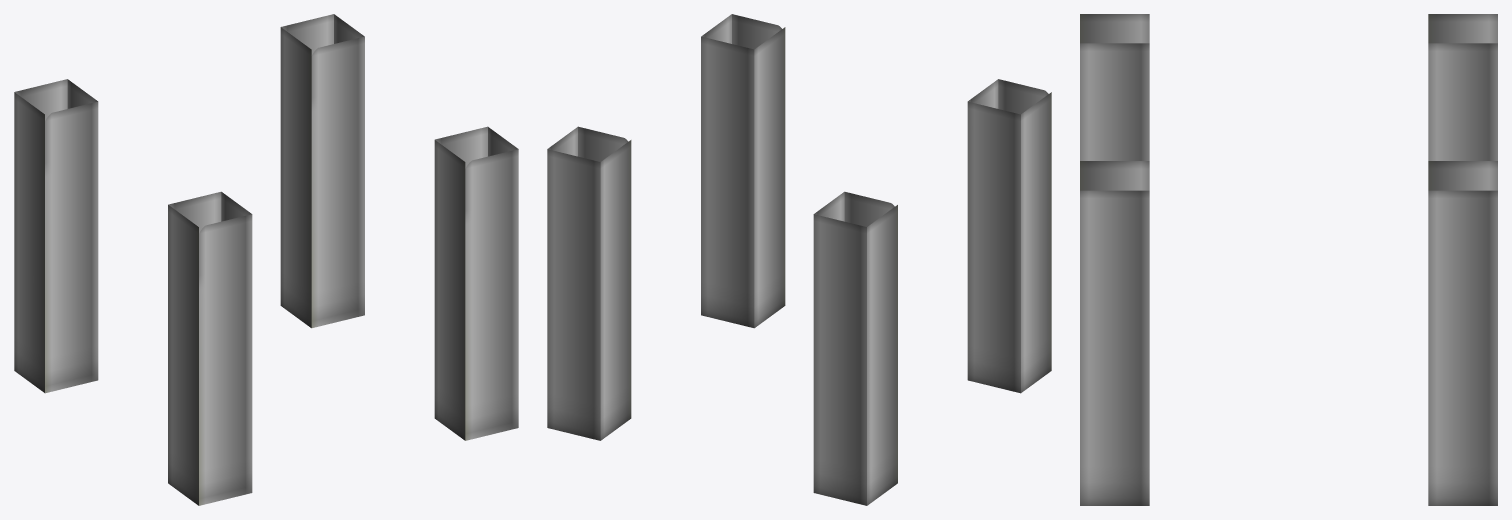
File: hydraulics.obj
3 renders of one model, left to right at view 1: azimuth 30°, elevation 25°; view 2: azimuth 150°, elevation 25°; view 3: azimuth 270°, elevation 25°, orthographic. The views are drawn at different scales.
Bounding box in the file's own units: 1.5 × 1.25 × 1.5.
